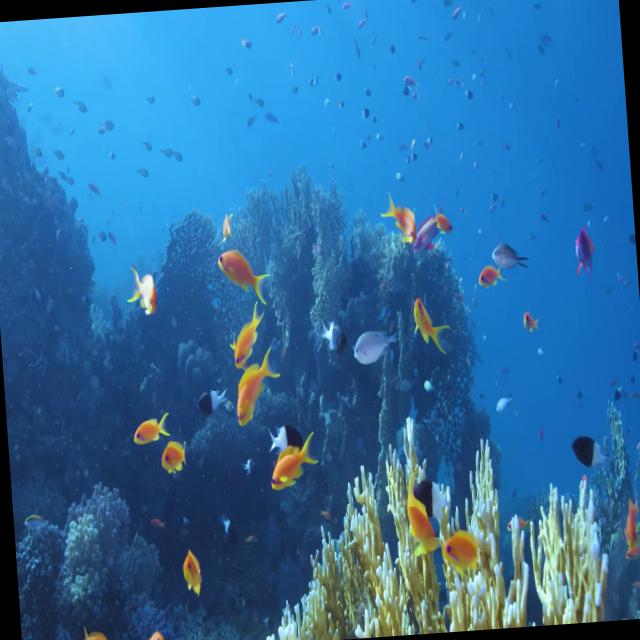fish: (225, 340, 292, 432), (258, 418, 320, 508), (116, 245, 174, 338), (207, 226, 271, 310), (124, 390, 183, 458), (344, 308, 402, 377), (404, 288, 455, 360), (377, 187, 424, 259), (438, 522, 493, 583), (224, 302, 268, 373), (401, 489, 439, 569), (260, 402, 308, 460), (562, 423, 612, 472), (192, 376, 240, 426), (172, 532, 208, 596), (488, 227, 536, 275), (211, 498, 248, 560), (154, 431, 191, 488), (570, 221, 604, 281), (613, 491, 640, 566), (313, 310, 350, 360), (428, 199, 462, 248), (213, 194, 240, 247), (233, 444, 260, 496), (517, 294, 545, 344), (474, 250, 506, 290), (77, 609, 118, 640), (141, 620, 167, 640)
